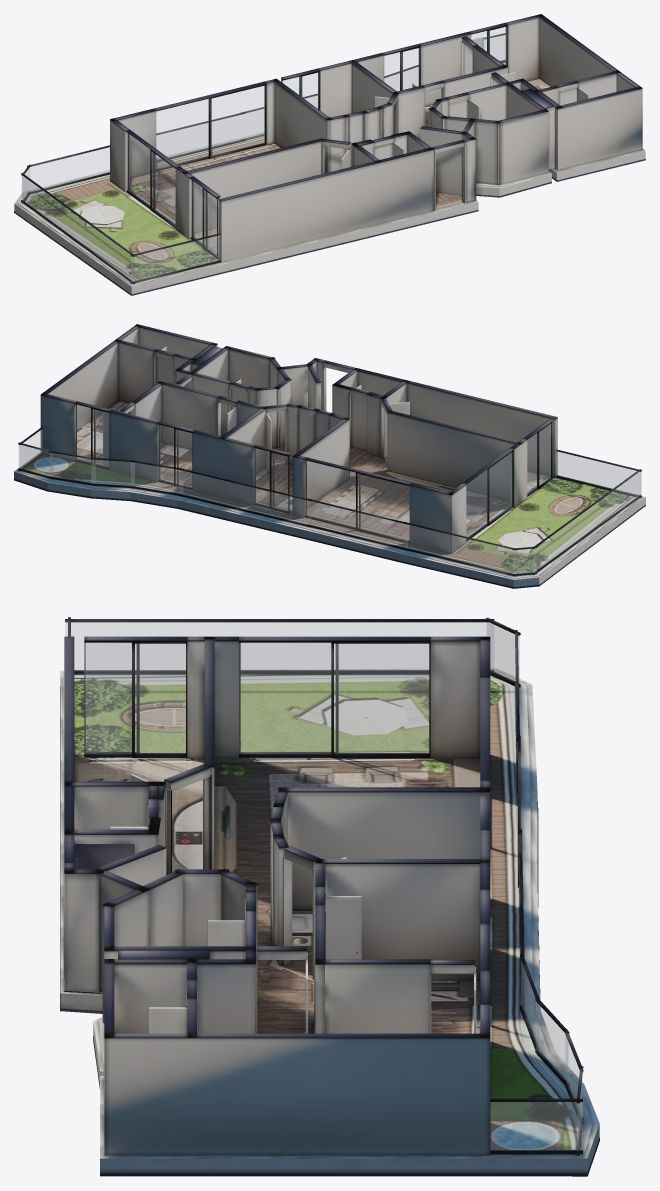
3 renders of one model, top to bottom at view 1: azimuth 30°, elevation 25°; view 2: azimuth 150°, elevation 25°; view 3: azimuth 270°, elevation 25°, orthographic. The views are drawn at different scales.
Parts seen in each view (by area): view 1: plan, glass2_m, railg3_m, glass0_m, railg1_m, railg0_m, railg9_m, glass1_m, glass4_m, glass5_m, glass3_m, railg8_m (+1 smaller); view 2: plan, glass2_m, railg8_m, railg9_m, railg3_m, glass0_m, railg0_m, railg1_m, glass3_m, glass5_m, glass4_m, railg7_m (+6 smaller); view 3: plan, glass0_m, railg3_m, glass1_m, railg2_m, railg6_m, railg10_m, railg7_m.
Boxes of the visible parts, bbox=[...] form: plan: bbox=[14, 14, 645, 295]; glass2_m: bbox=[156, 86, 264, 168]; railg3_m: bbox=[22, 176, 134, 281]; glass0_m: bbox=[128, 133, 175, 224]; railg1_m: bbox=[131, 235, 220, 281]; railg0_m: bbox=[157, 114, 244, 157]; railg9_m: bbox=[28, 147, 109, 191]; glass1_m: bbox=[191, 180, 218, 255]; glass4_m: bbox=[384, 48, 418, 90]; glass5_m: bbox=[471, 27, 506, 64]; glass3_m: bbox=[282, 73, 318, 108]; railg8_m: bbox=[246, 96, 317, 137]; plan: bbox=[14, 324, 645, 588]; glass2_m: bbox=[306, 461, 409, 540]; railg8_m: bbox=[179, 470, 311, 524]; railg9_m: bbox=[404, 524, 516, 574]; railg3_m: bbox=[533, 472, 640, 572]; glass0_m: bbox=[466, 452, 511, 536]; railg0_m: bbox=[308, 501, 407, 548]; railg1_m: bbox=[557, 451, 641, 495]; glass3_m: bbox=[254, 448, 287, 510]; glass5_m: bbox=[76, 404, 108, 466]; glass4_m: bbox=[159, 425, 191, 487]; railg7_m: bbox=[131, 462, 182, 493]; plan: bbox=[60, 617, 599, 1176]; glass0_m: bbox=[239, 643, 428, 753]; railg3_m: bbox=[65, 622, 493, 670]; glass1_m: bbox=[84, 643, 185, 753]; railg2_m: bbox=[490, 1102, 582, 1150]; railg6_m: bbox=[536, 1002, 567, 1082]; railg10_m: bbox=[487, 622, 519, 683]; railg7_m: bbox=[521, 960, 539, 1051].
Bounding box in the file's own units: 20.2 × 2.62 × 9.39.
Materials: 2 (1 with a texture image).
